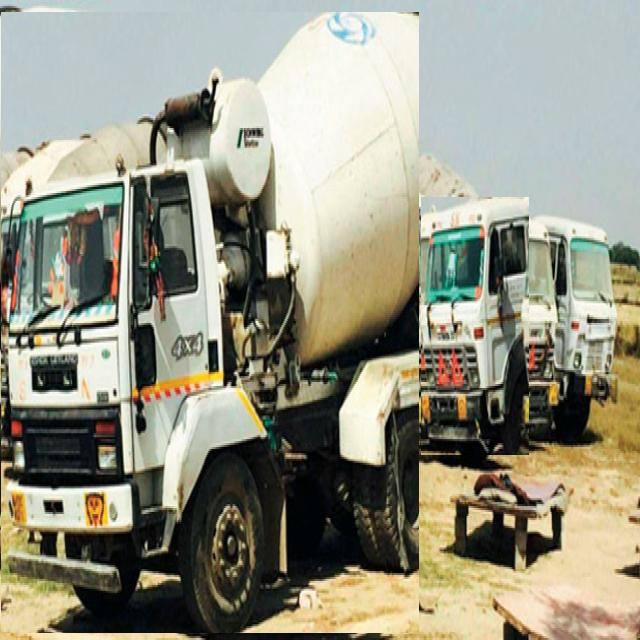truck: (1, 12, 418, 633), (421, 198, 529, 455), (540, 216, 616, 441)
